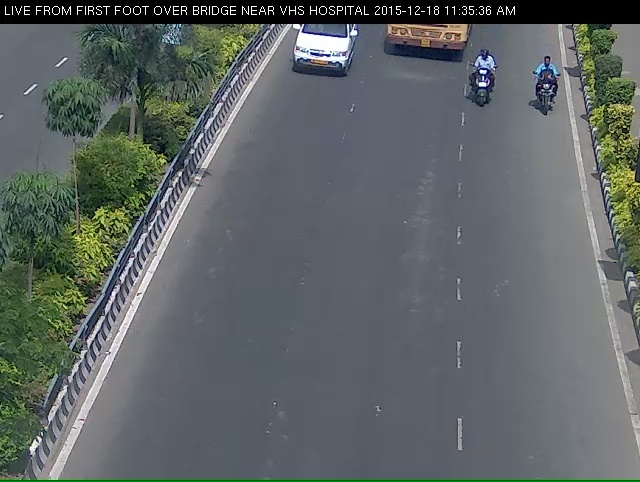Bus: (374, 16, 472, 66)
Car: (287, 20, 360, 87)
Person: (528, 65, 569, 131), (470, 53, 502, 130)
